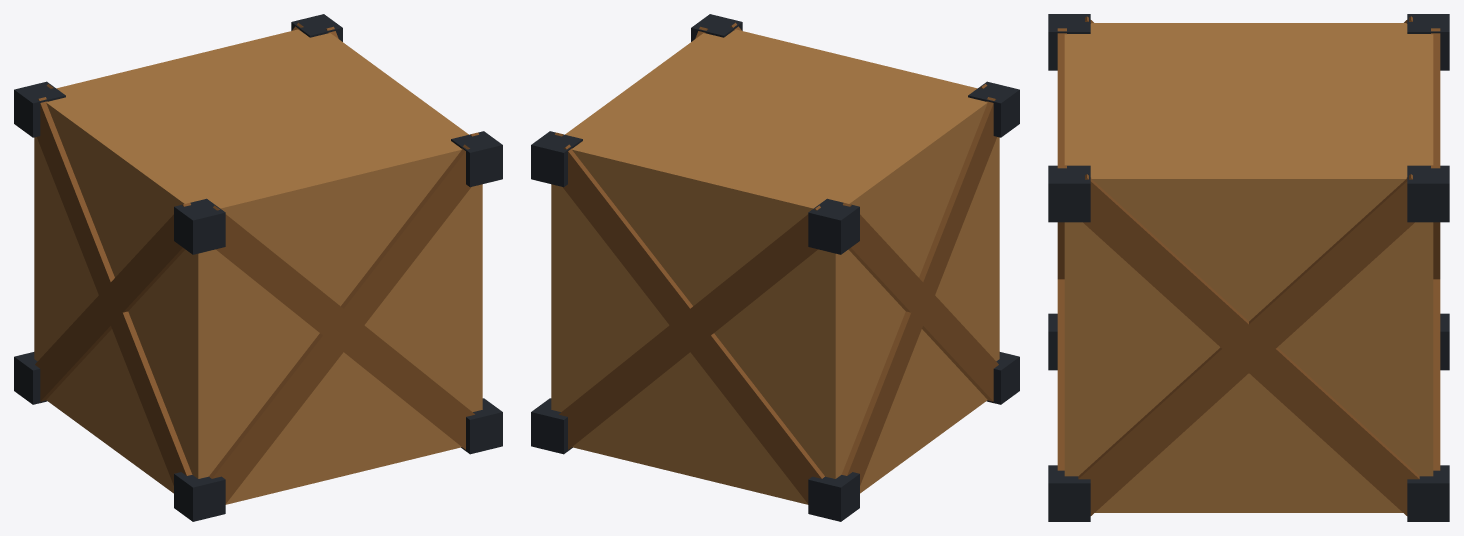
File: crate_cargo.glb
The picture shows the model from 3 angles, left to right: view 1: azimuth 30°, elevation 25°; view 2: azimuth 150°, elevation 25°; view 3: azimuth 270°, elevation 25°; orthographic projection. The views are drawn at different scales.
Visible parts, largest first — view 1: Crate; view 2: Crate; view 3: Crate.
Boxes of the visible parts, left/top/right/bottom form: Crate: left=14, top=14, right=502, bottom=521; Crate: left=531, top=14, right=1019, bottom=521; Crate: left=1048, top=14, right=1449, bottom=521.
Bounding box in the file's own units: 0.85 × 0.799 × 0.85.
